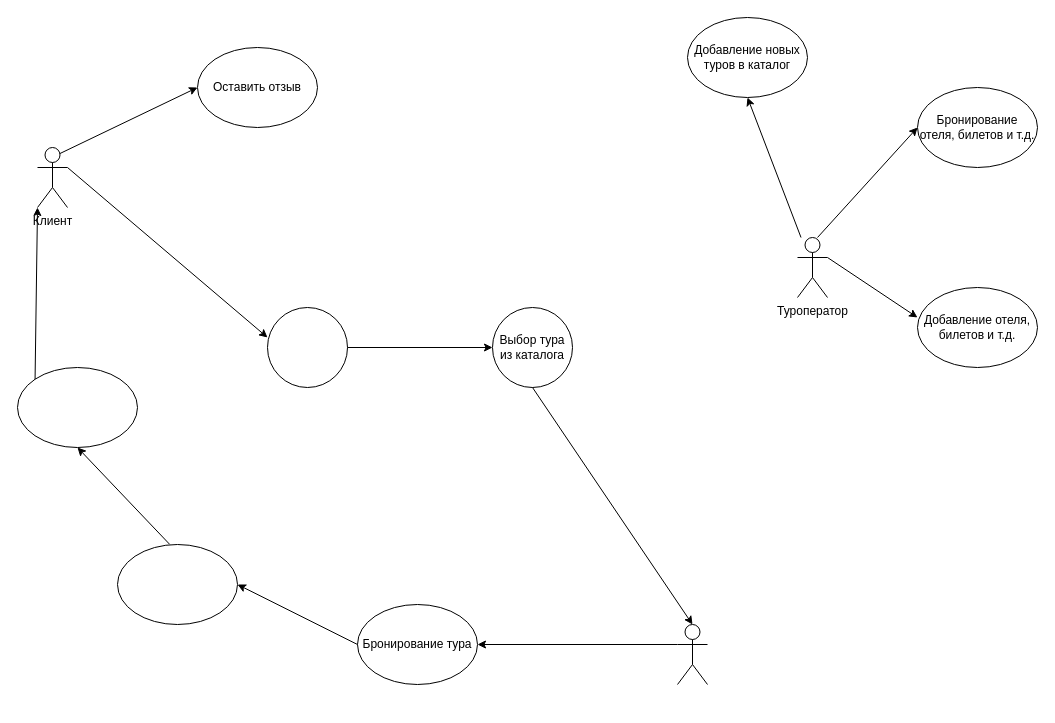
The diagram is 1055 pixels wide and 723 high, and some of its shapes have lost their labels. The shapes that lost their labels are listed below. From the top down, each one's box as (x1, y1, x2, y2) in pixels, then its label:
(266, 306, 348, 388): Поиск тура
(16, 366, 138, 448): Оформление договора
(116, 544, 238, 624): Продажа тура
(676, 624, 708, 684): Турагент
